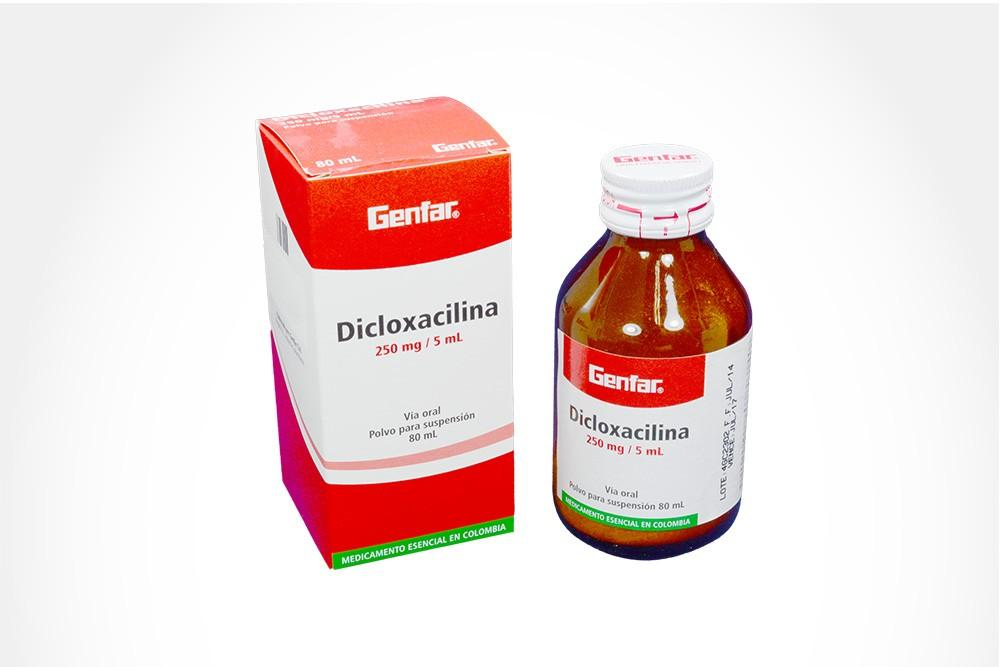Genfar: (316, 165, 516, 573)
